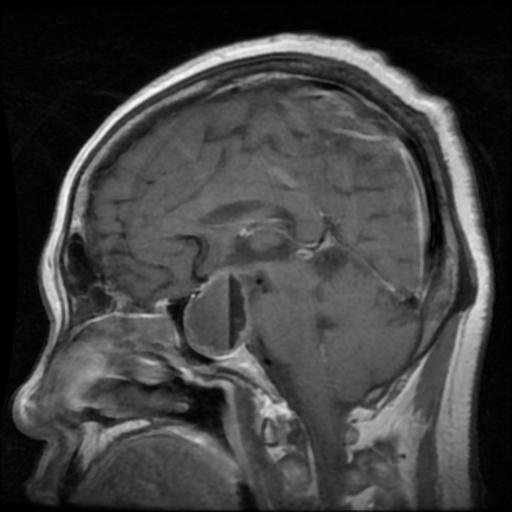pituitary: (182, 267, 254, 357)
